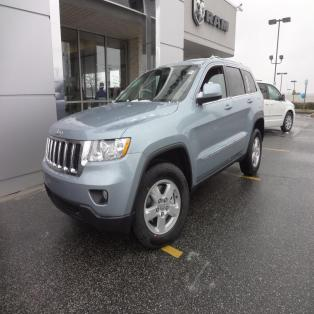Auto: (41, 55, 265, 250)
